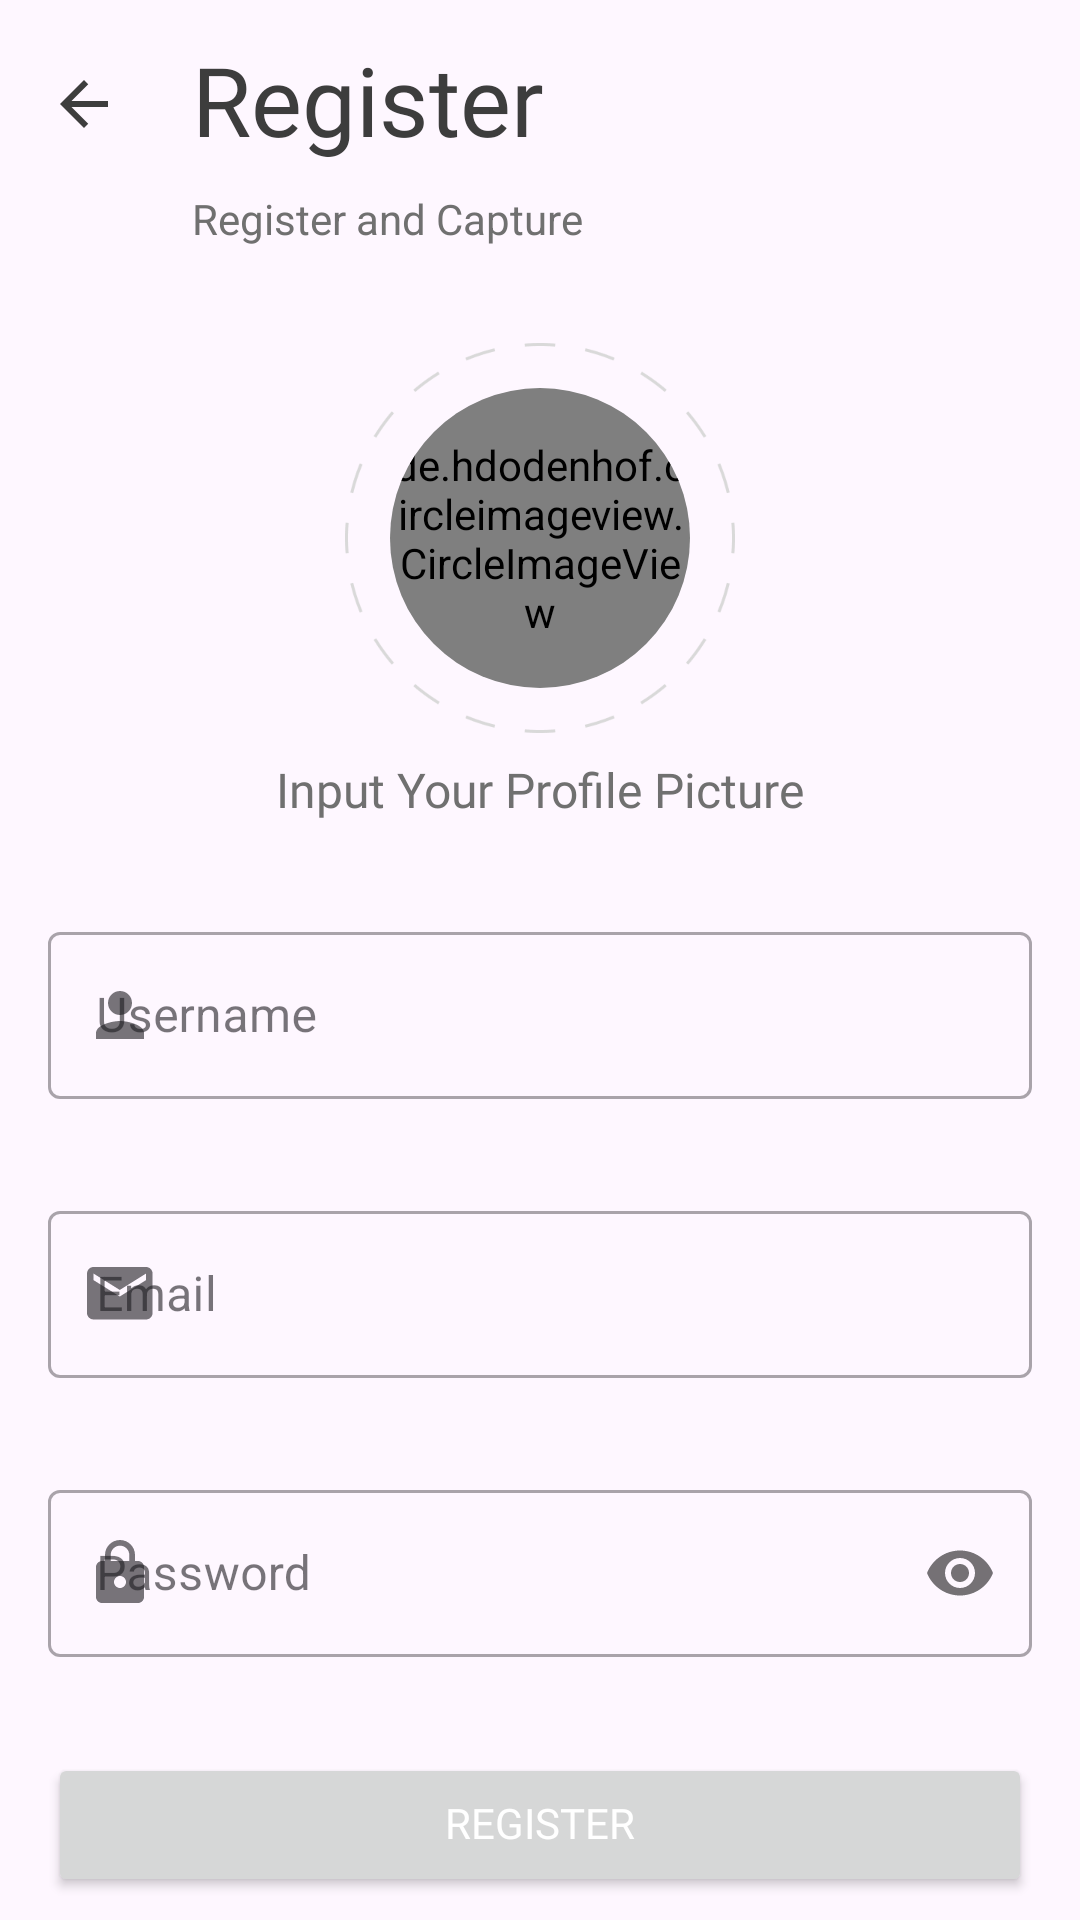

Screen size 1080x1920. Icon name, then its box in pixels as (x1,y1,x2,y2):
Arrow Back Icon: (60,80,108,128)
